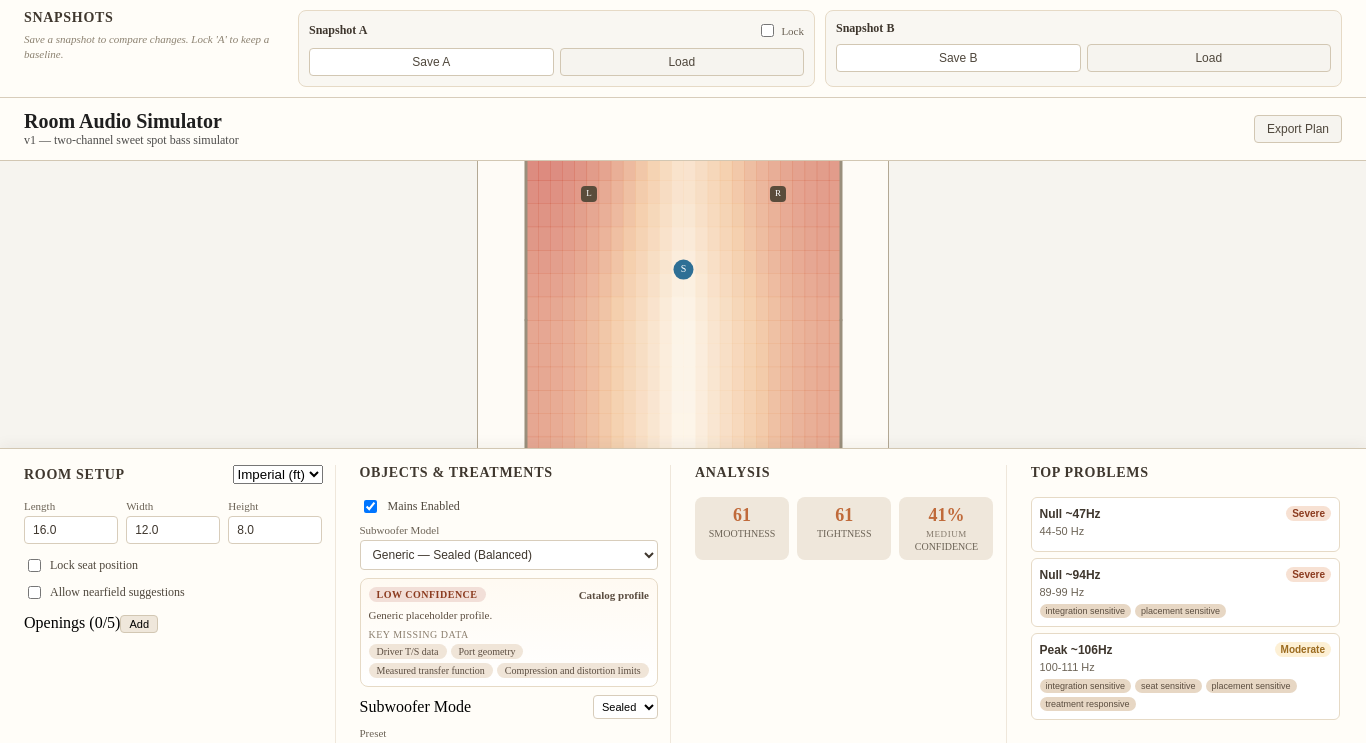
Test case: App subwoofer mode switching › applies catalog model defaults including mode and orientation
Step 1. Select "Vera-Fi — Vanguard Caldera 10" in the dropdown labelled "Subwoofer Model" → (509, 555), box top-left (360, 540), bottom-right (658, 570)
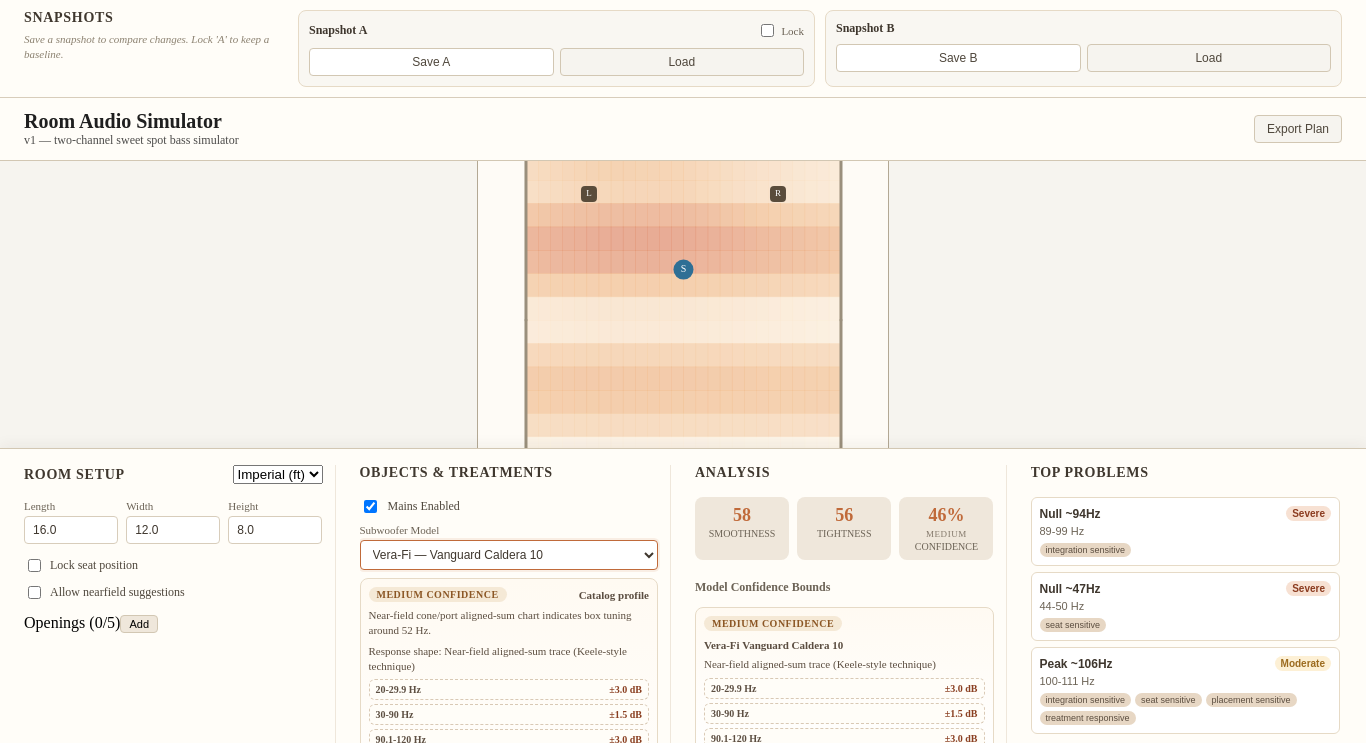
Now the text "Medium Confidence" next to "Catalog profile" is shown, box top-left (376, 589), bottom-right (499, 600)
Now the text "Response shape:" is shown, box top-left (368, 645), bottom-right (442, 657)
Now the text "30-90 Hz" below "Response shape:" is shown, box top-left (376, 709), bottom-right (414, 720)
